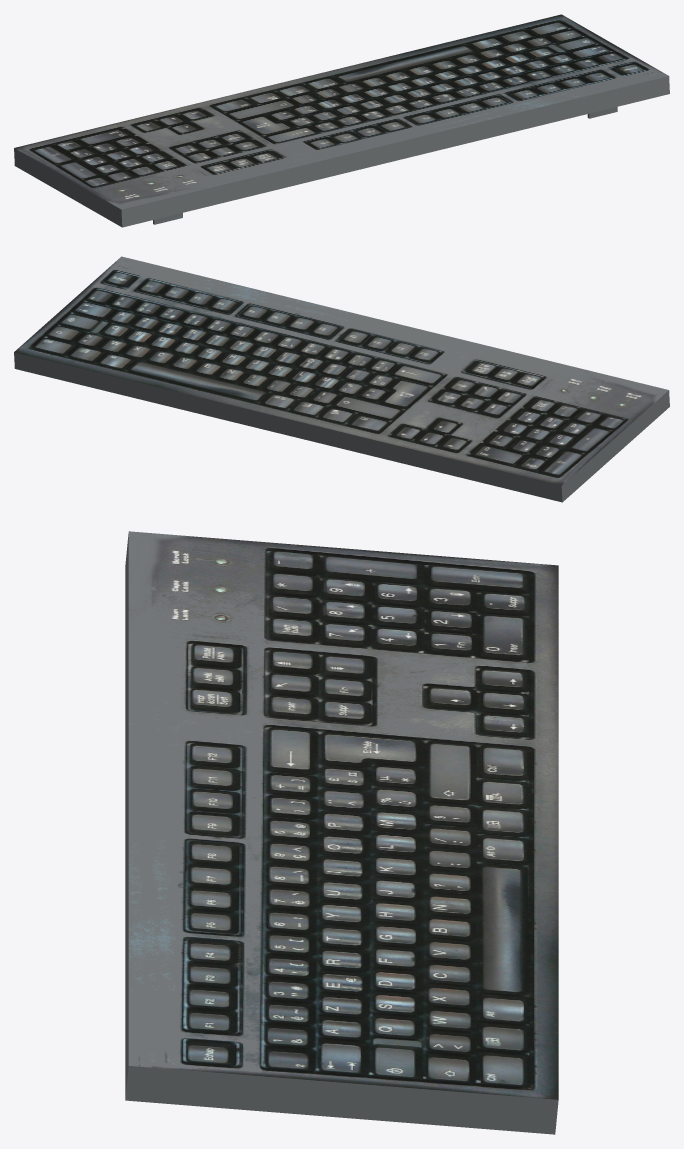
The model's file is Keyboard.fbx.
The picture shows the model from 3 angles, top to bottom: view 1: azimuth 30°, elevation 25°; view 2: azimuth 150°, elevation 25°; view 3: azimuth 270°, elevation 25°; orthographic projection. The views are drawn at different scales.
Parts seen in each view (by area): view 1: Keyboard; view 2: Keyboard; view 3: Keyboard.
Boxes of the visible parts, left/top/right/bottom form: Keyboard: left=14, top=14, right=669, bottom=227; Keyboard: left=14, top=256, right=669, bottom=502; Keyboard: left=125, top=531, right=558, bottom=1134.
Bounding box in the file's own units: 0.4309 × 0.0262 × 0.1476.
